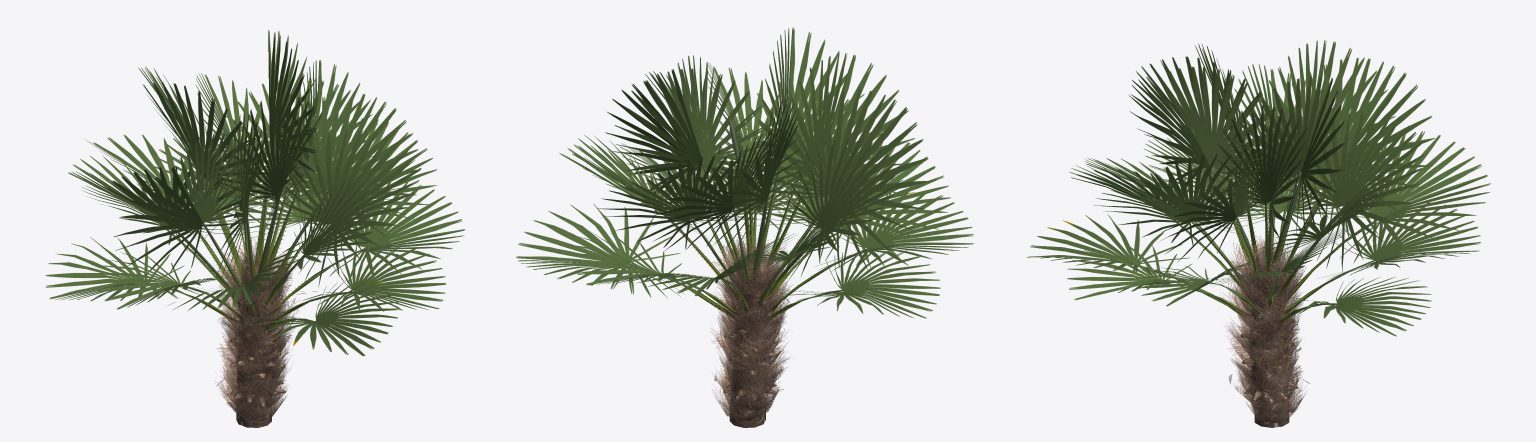
The model's file is fanpalm16.glb.
The picture shows the model from 3 angles, left to right: view 1: azimuth 30°, elevation 25°; view 2: azimuth 150°, elevation 25°; view 3: azimuth 270°, elevation 25°; orthographic projection.
Visible parts, largest first — view 1: Chamaerops_humilis_HD; view 2: Chamaerops_humilis_HD; view 3: Chamaerops_humilis_HD.
Boxes of the visible parts, x1,y1,x2,y2 form: Chamaerops_humilis_HD: (45,30,464,427); Chamaerops_humilis_HD: (516,27,973,427); Chamaerops_humilis_HD: (1026,40,1490,427).
Bounding box in the file's own units: 0.8561 × 0.7492 × 0.8747.
10 materials, 10 textured.
